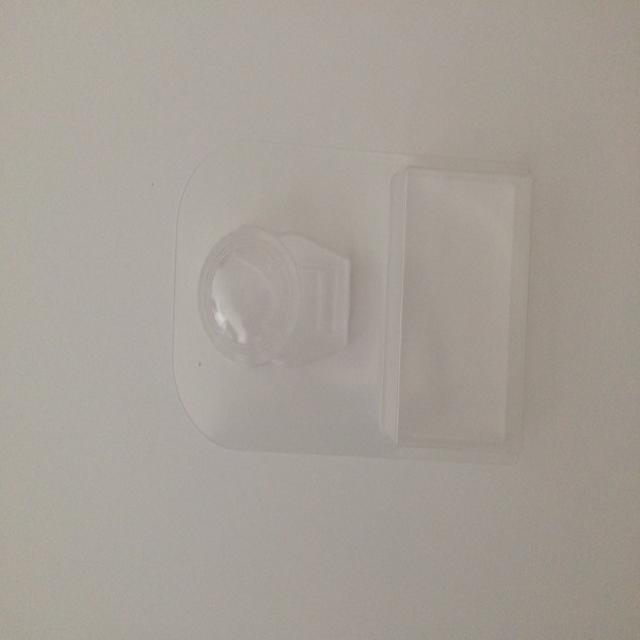plastic: (154, 140, 536, 474)
